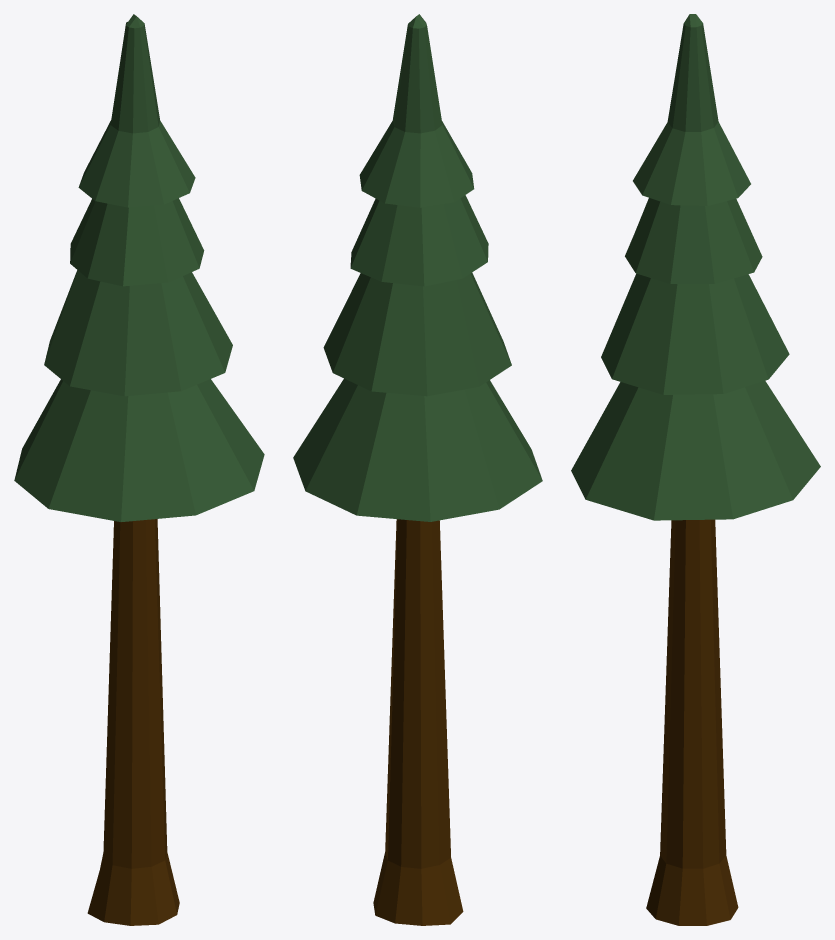
3 views of the same model, side by side, from view 1: azimuth 30°, elevation 25°; view 2: azimuth 150°, elevation 25°; view 3: azimuth 270°, elevation 25° (orthographic).
Parts seen in each view (by area): view 1: Цилиндр.021; view 2: Цилиндр.021; view 3: Цилиндр.021.
Boxes of the visible parts, x1,y1,x2,y2 form: Цилиндр.021: [14, 14, 264, 925]; Цилиндр.021: [293, 14, 542, 925]; Цилиндр.021: [571, 14, 820, 925].
Size of the model in its own units: 8618 by 34111 by 8625.
